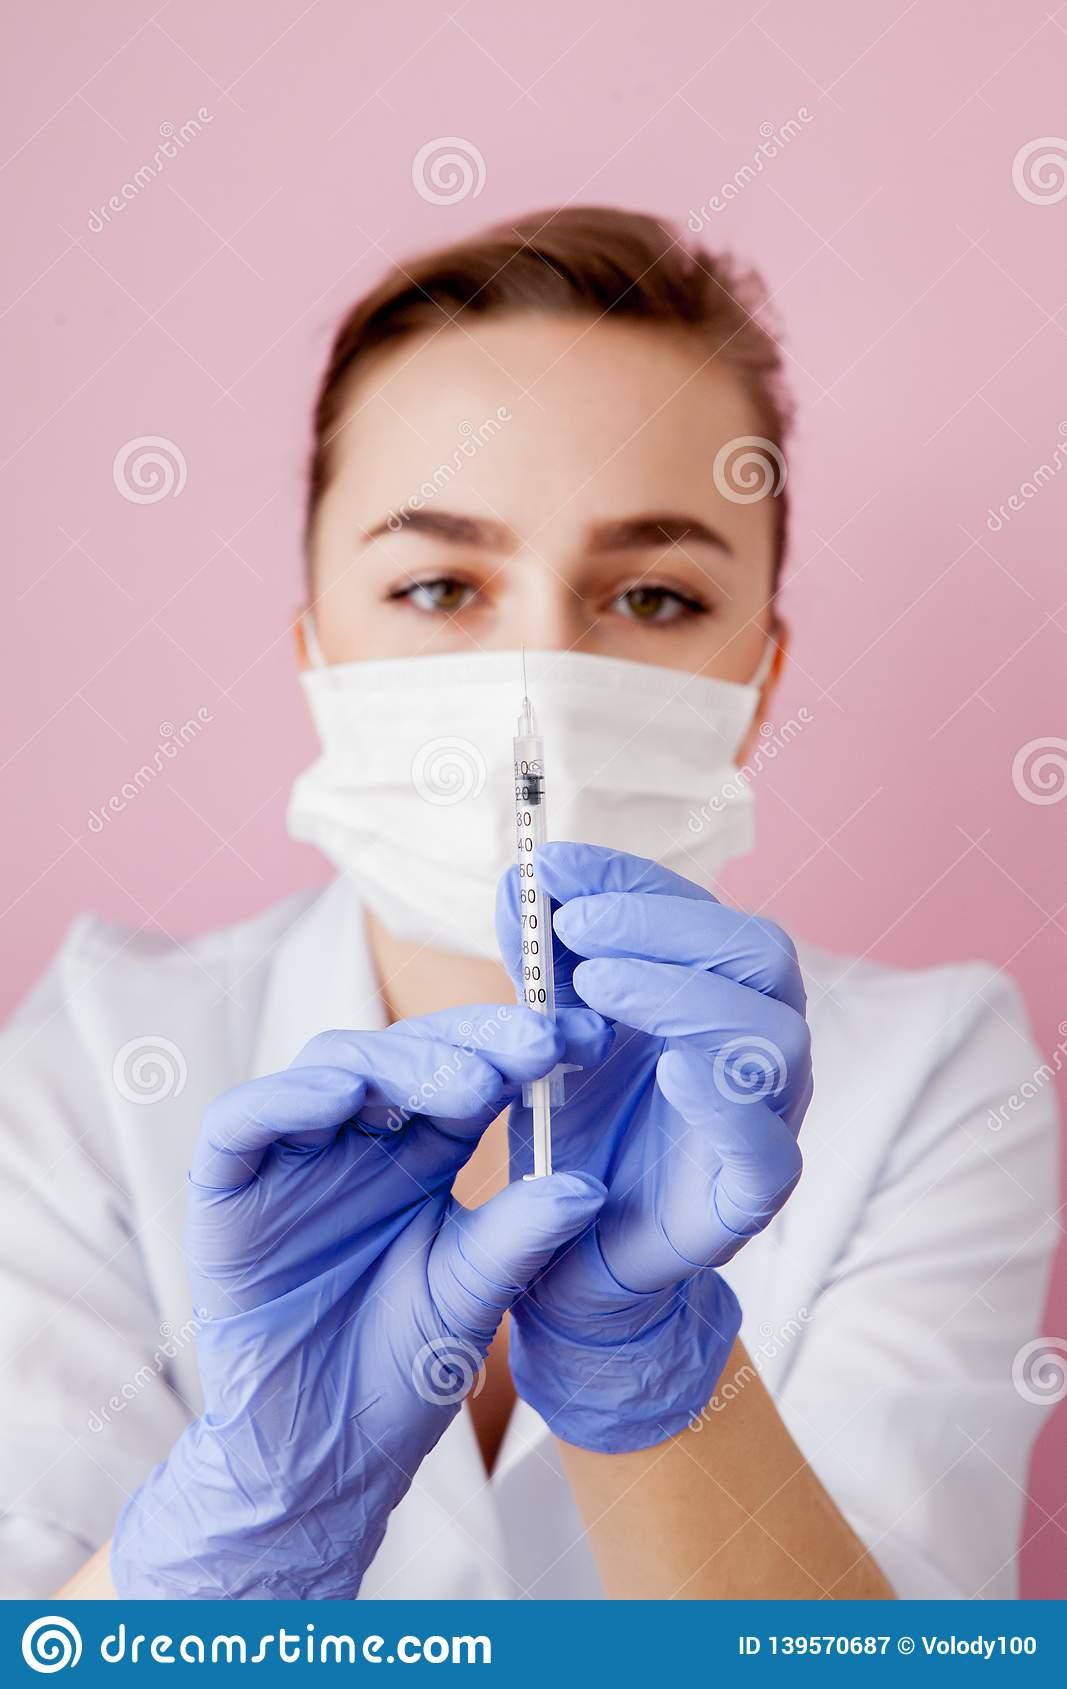mask: (296, 659, 762, 991)
